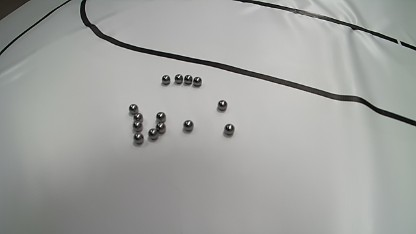ironball: (183, 119, 194, 131), (223, 123, 234, 135), (148, 128, 159, 140), (133, 133, 144, 144), (132, 121, 143, 132), (128, 103, 138, 114), (217, 100, 227, 111), (156, 122, 166, 133), (156, 111, 166, 122), (133, 112, 143, 122), (174, 74, 183, 84), (161, 75, 170, 85), (193, 76, 202, 86), (183, 74, 192, 84)
